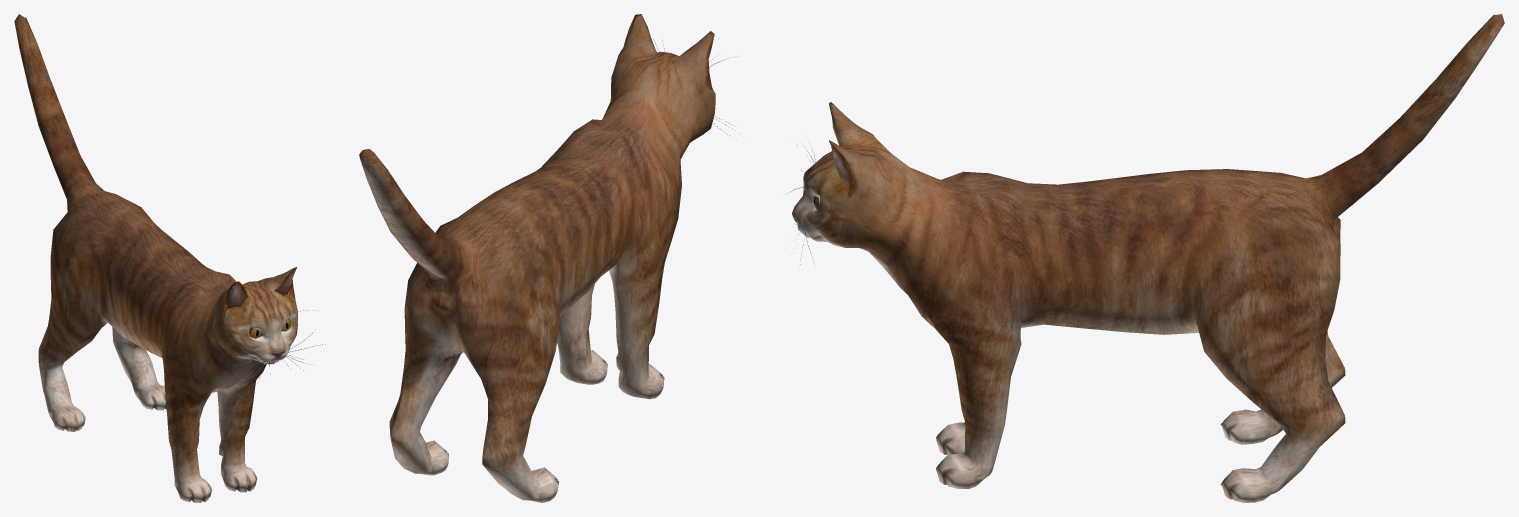
The model's file is SariKedi.fbx.
The picture shows the model from 3 angles, left to right: view 1: azimuth 30°, elevation 25°; view 2: azimuth 150°, elevation 25°; view 3: azimuth 270°, elevation 25°; orthographic projection. The views are drawn at different scales.
Visible parts, largest first — view 1: default_object; view 2: default_object; view 3: default_object.
Boxes of the visible parts, left/top/right/bottom form: default_object: left=14, top=14, right=325, bottom=502; default_object: left=359, top=14, right=735, bottom=502; default_object: left=791, top=14, right=1504, bottom=502.
Bounding box in the file's own units: 13.36 × 36.29 × 52.44.
